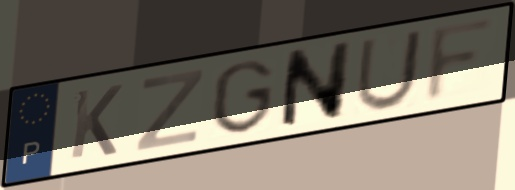F: (419, 13, 502, 108)
G: (209, 55, 277, 137)
K: (66, 81, 126, 162)
N: (276, 37, 355, 133)
U: (351, 27, 427, 115)
Z: (131, 65, 207, 154)
